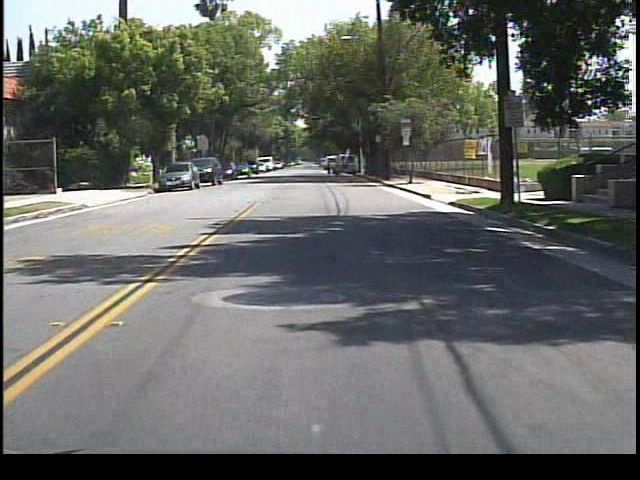person: (321, 156, 337, 181)
